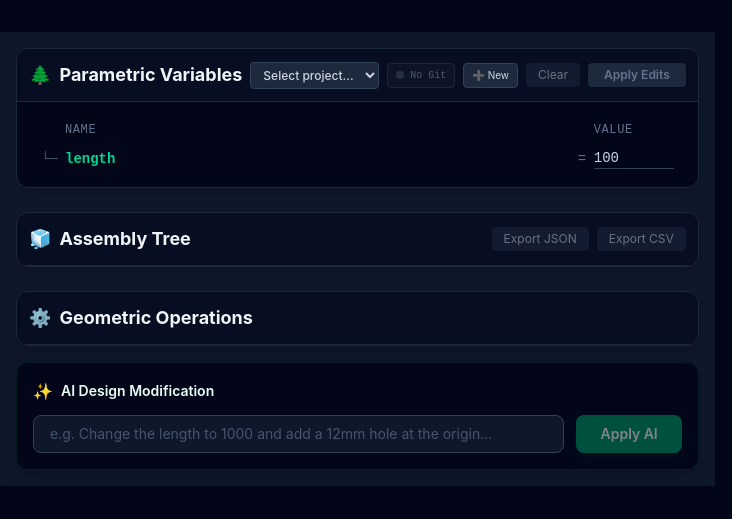
Test: FeatureTreeTab authenticated AI edit › clears prompt and variable edits, then explicitly refreshes features after success
Replace the text in the field showing "100" with "125" at {"x": 634, "y": 158}, box 594,148 -> 674,169
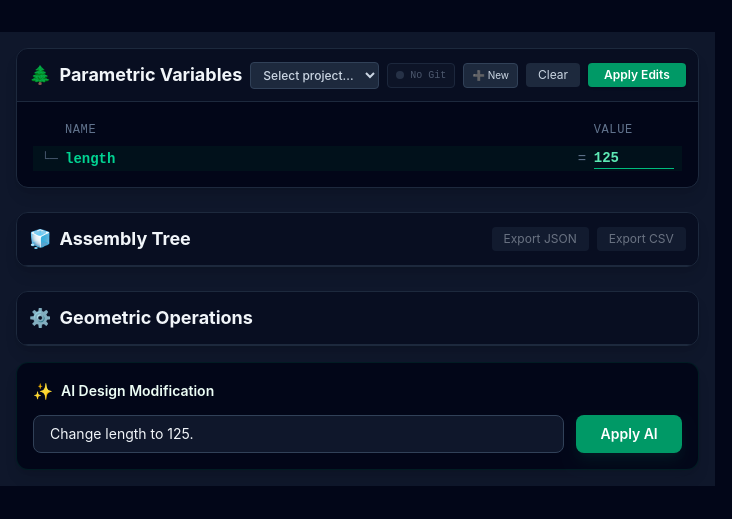
Check: the field with placeholder "Change the length" below "AI Design Modification" holds "Change length to 125.", box 33,415 -> 564,453
Click the button "Apply AI" at {"x": 629, "y": 434}, box 576,415 -> 682,453
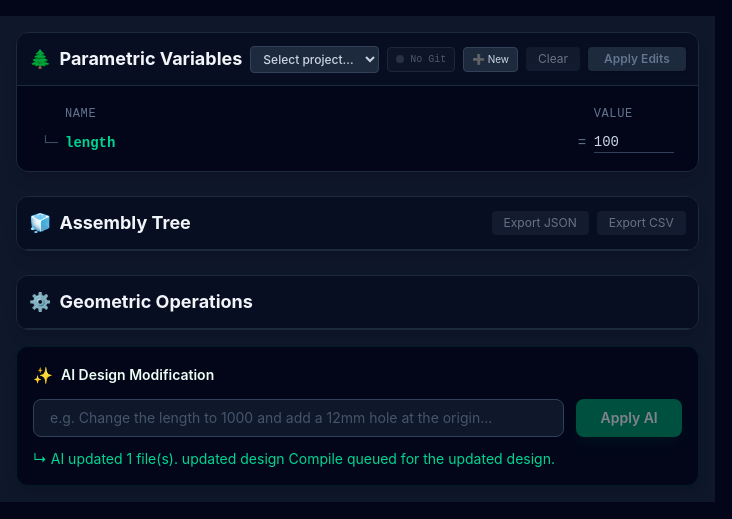
Check: the text "AI updated 1 file" is shown, box 51,450 -> 555,467
Check: the field with placeholder "Change the length" is empty, box 33,399 -> 564,437
Check: the field showing "100" is shown, box 594,132 -> 674,153
